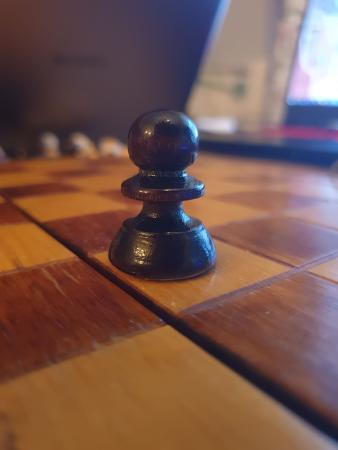bpawn: (107, 109, 215, 279)
